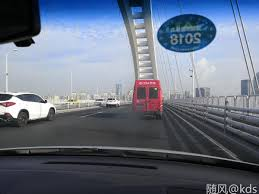smoke: (109, 104, 163, 138)
